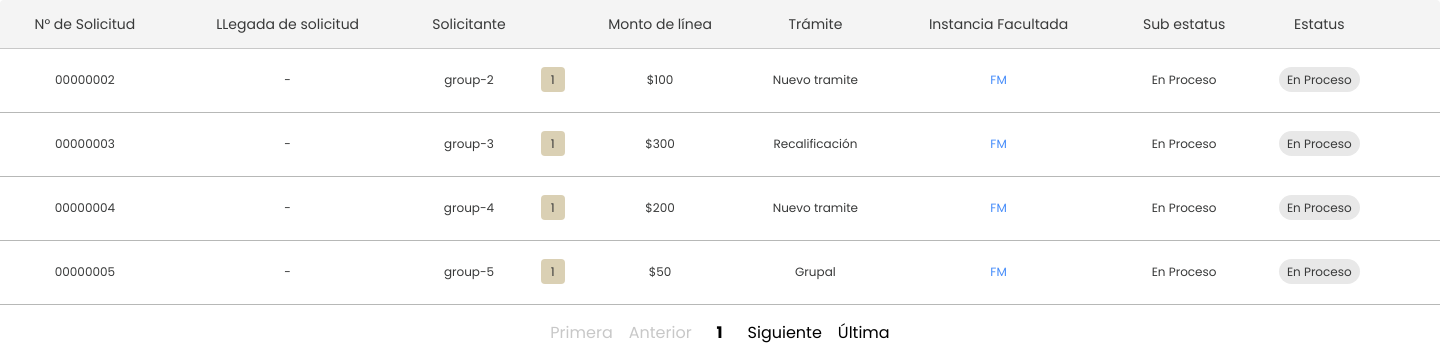
Test: TableRequests Component › it sort the data in descending order by column when the second click is made on a column header.
Click the text "Monto de línea" at (660, 24), box [608, 14, 712, 34]
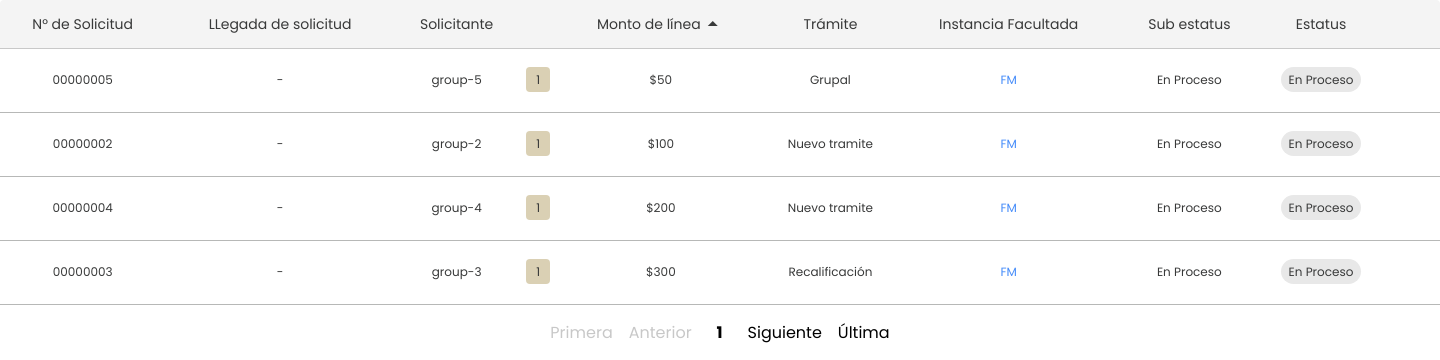
Click the text "Monto de línea" at (649, 24), box [597, 14, 701, 34]
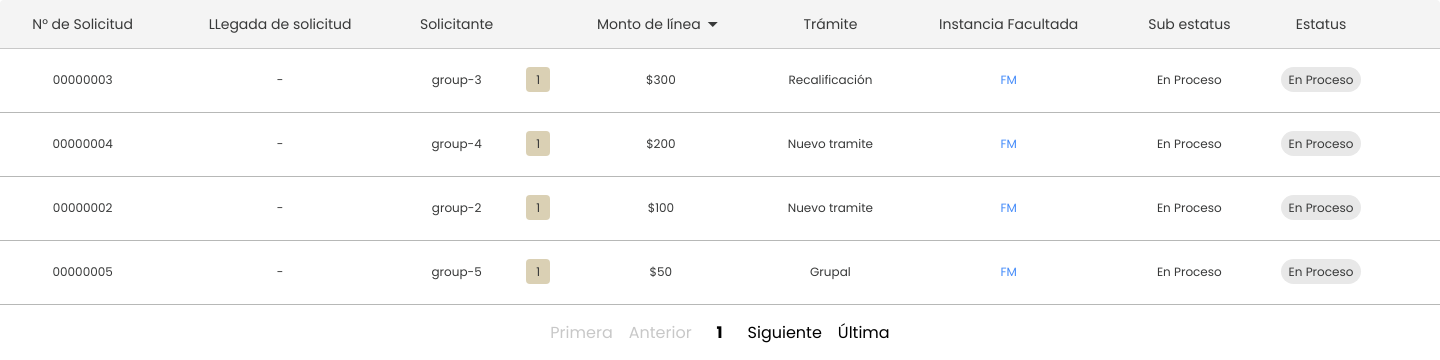
Expected: the text "$300" is shown, [558, 48, 764, 112]
Expected: the text "$200" is shown, [558, 112, 764, 176]
Expected: the text "$100" is shown, [558, 176, 764, 240]
